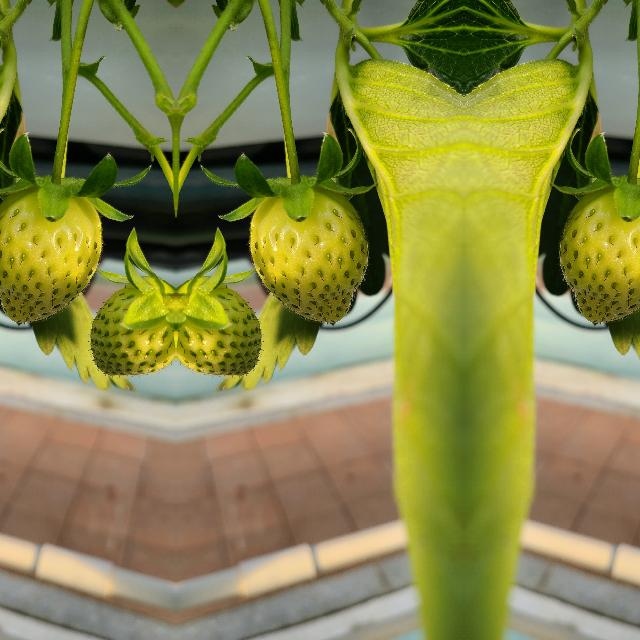Health_25: (250, 187, 366, 321), (0, 187, 100, 321), (559, 187, 640, 321)
